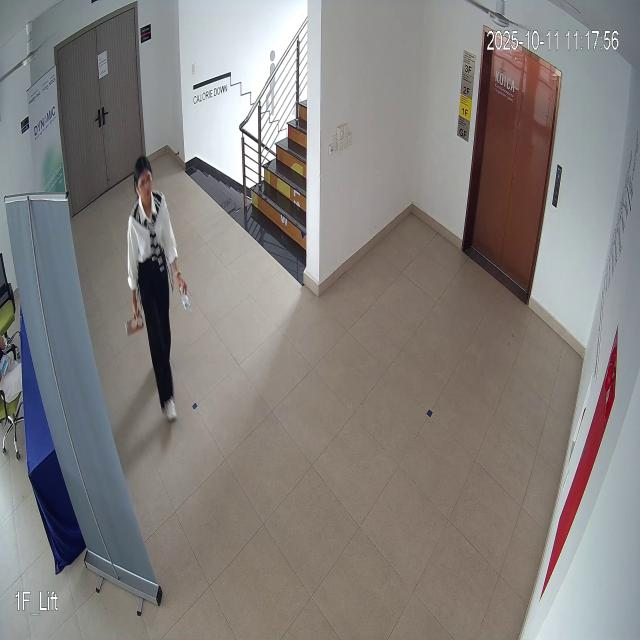face: (132, 154, 164, 207)
